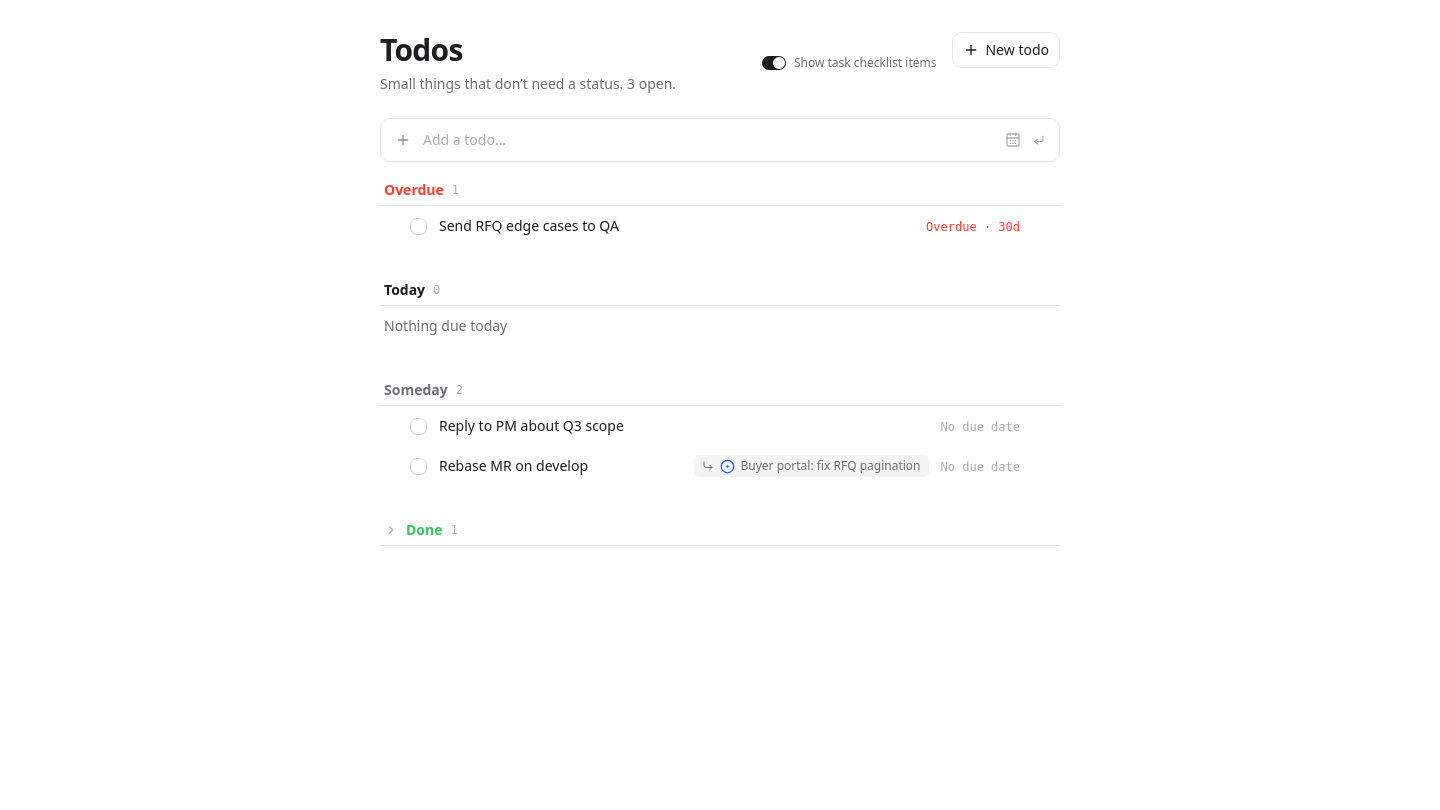
Test: TodosPage › creates a todo from the dialog, with a due date
Expected: the button "Send RFQ edge cases to QA" is shown, [439,216,914,236]
Click the button "New todo" at (1006,50), box [952,32,1060,68]
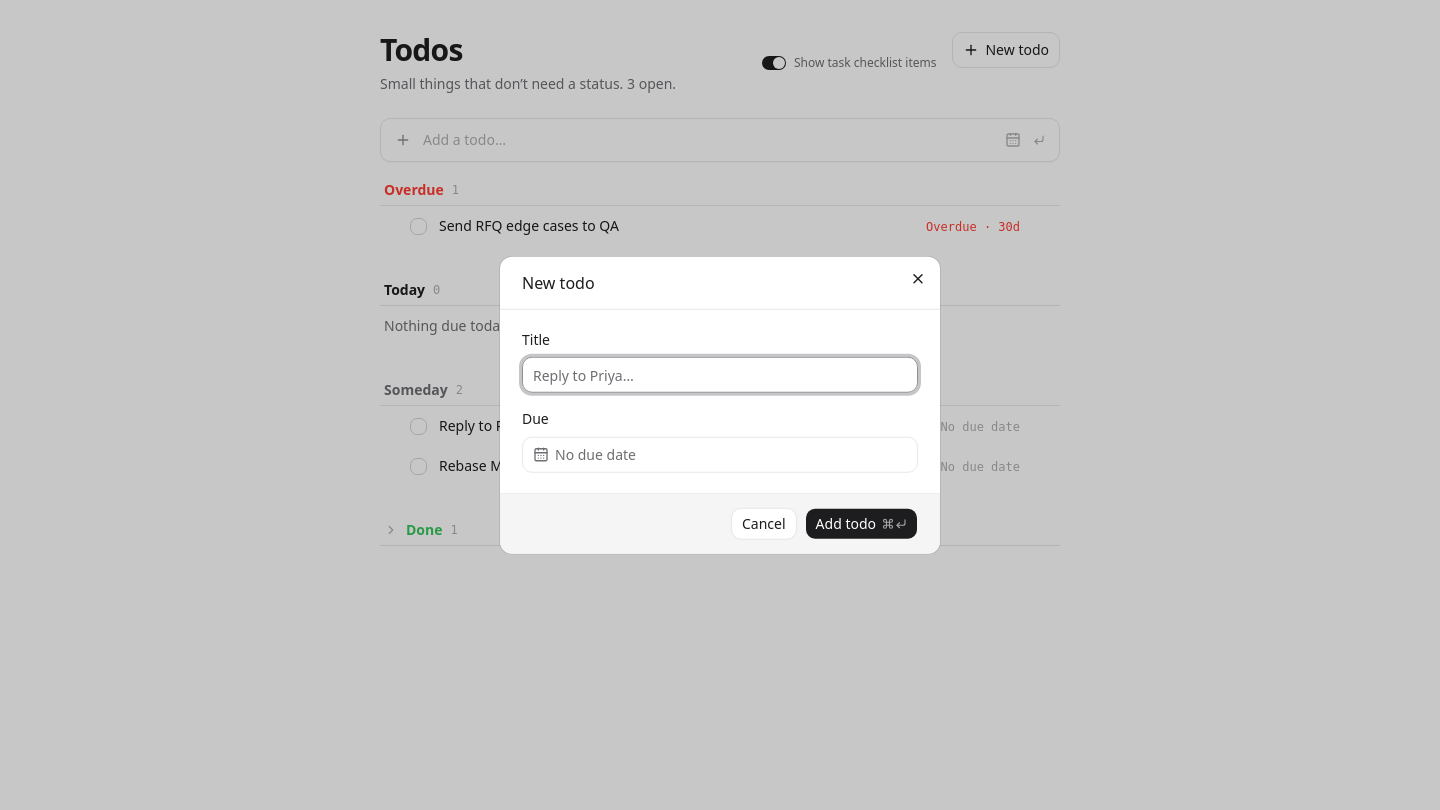
Type "Write release notes" into the field labelled "Title" at (720,375), box [522,357,918,393]
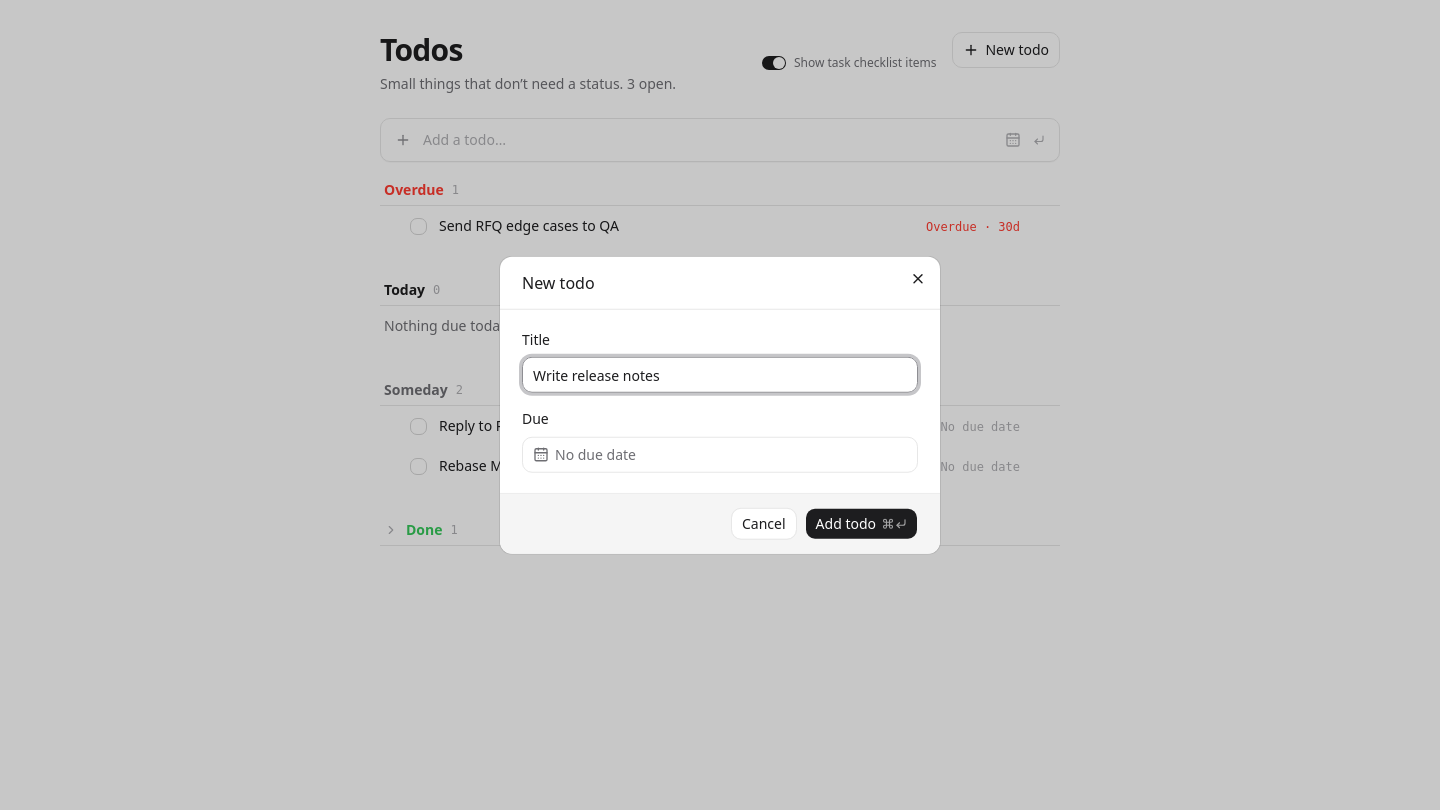
Click the button "Add todo" at (861,523), box [805,507,918,539]
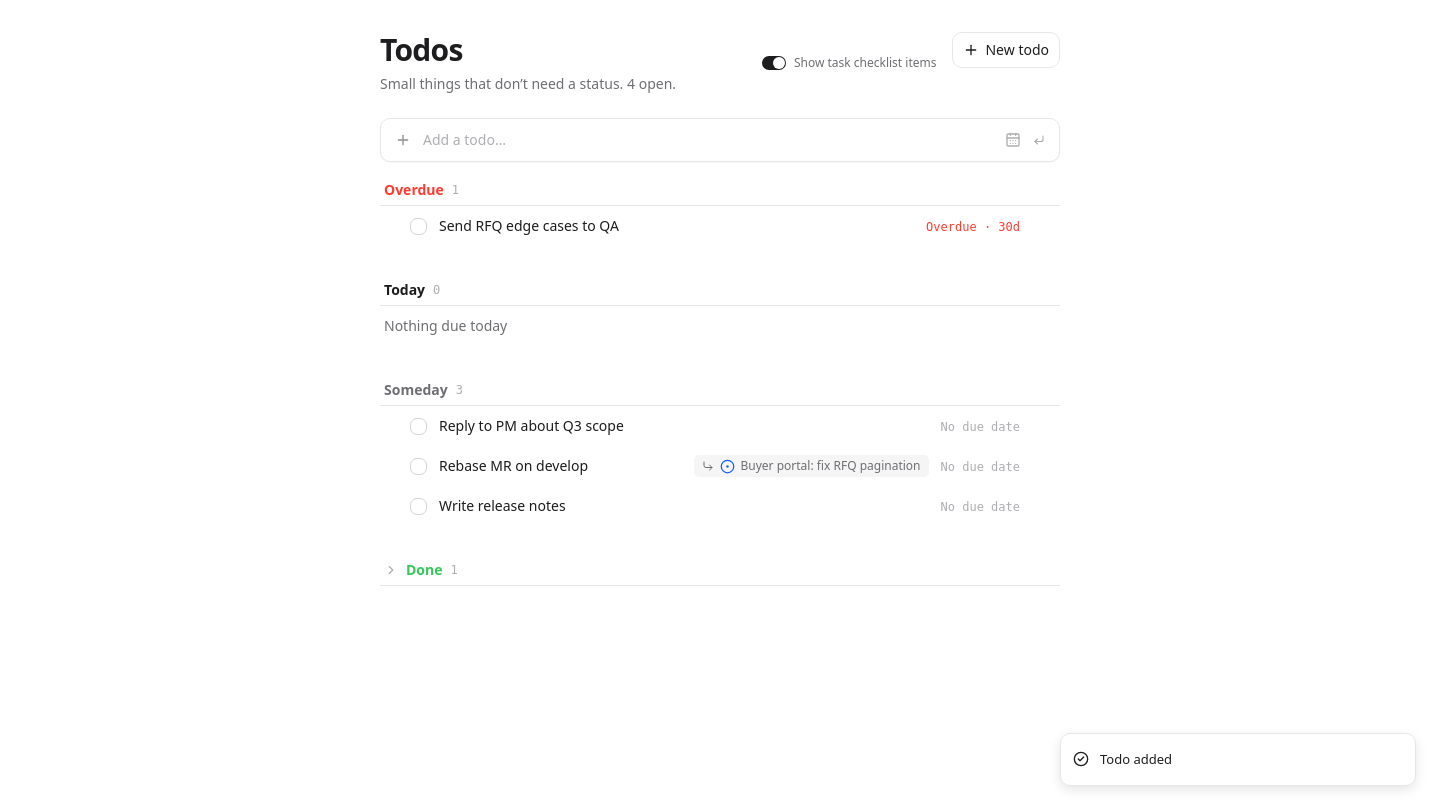
Expected: the dialog is gone
